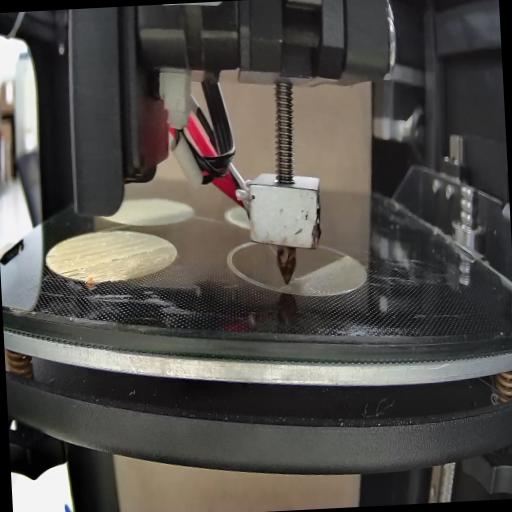under_extrusion: (110, 243, 170, 264), (58, 266, 89, 280), (44, 250, 56, 262)
